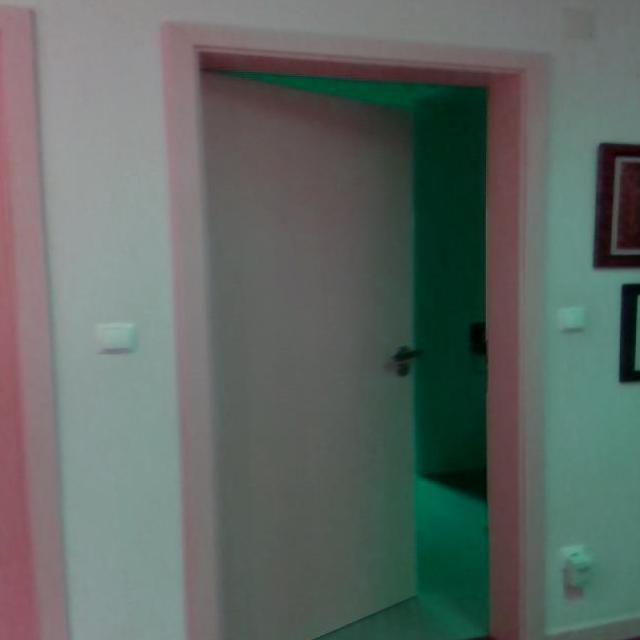door: (178, 27, 427, 640)
